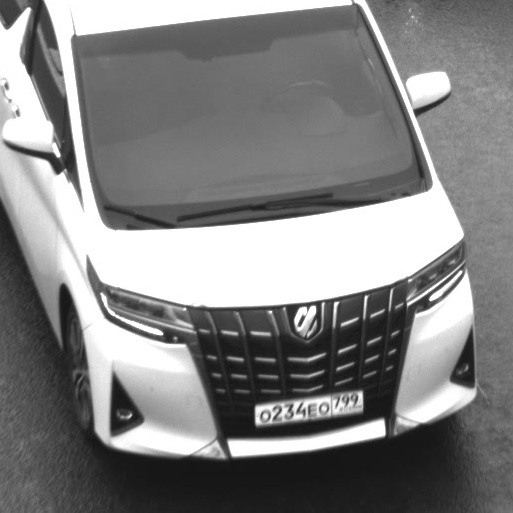plate: (245, 376, 375, 433)
